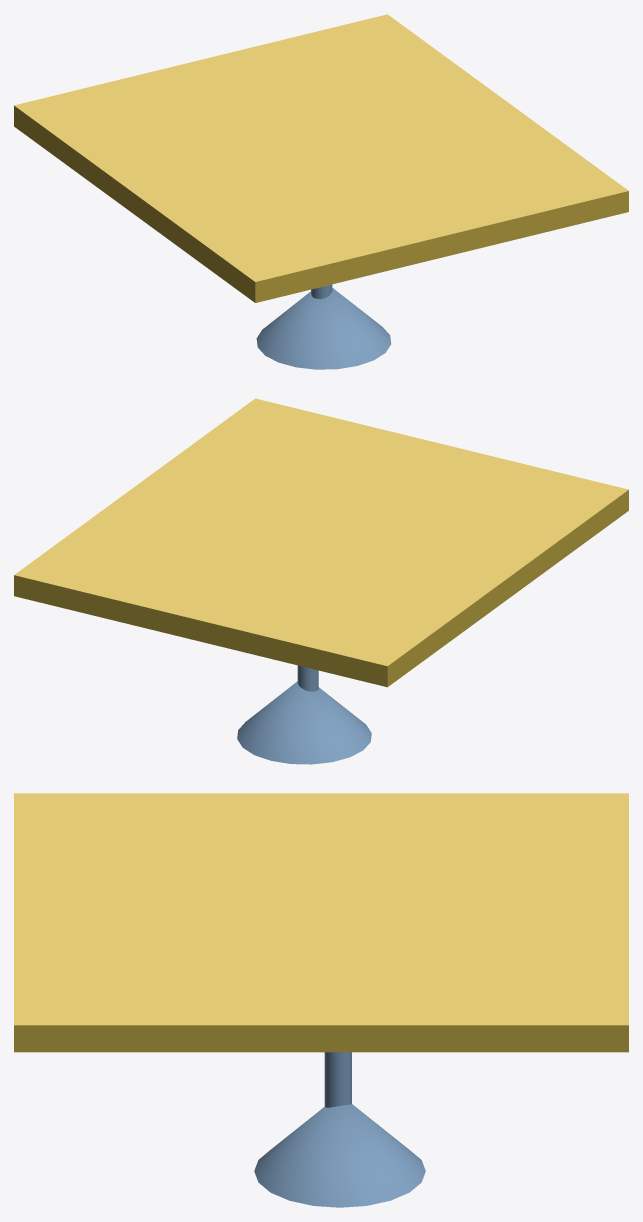
Rendered from mesita.obj.
3 views of the same model, one above another, from view 1: azimuth 30°, elevation 25°; view 2: azimuth 150°, elevation 25°; view 3: azimuth 270°, elevation 25° (orthographic). The views are drawn at different scales.
Visible parts, largest first — view 1: banco1:polySurface13; view 2: banco1:polySurface13; view 3: banco1:polySurface13.
Part boxes in pixels (x1=…): banco1:polySurface13: x1=14, y1=14, x2=628, y2=369; banco1:polySurface13: x1=14, y1=398, x2=628, y2=764; banco1:polySurface13: x1=14, y1=793, x2=628, y2=1207.
Size of the model in its own units: 1.75 by 0.8981 by 1.96.
4 materials, 4 textured.
